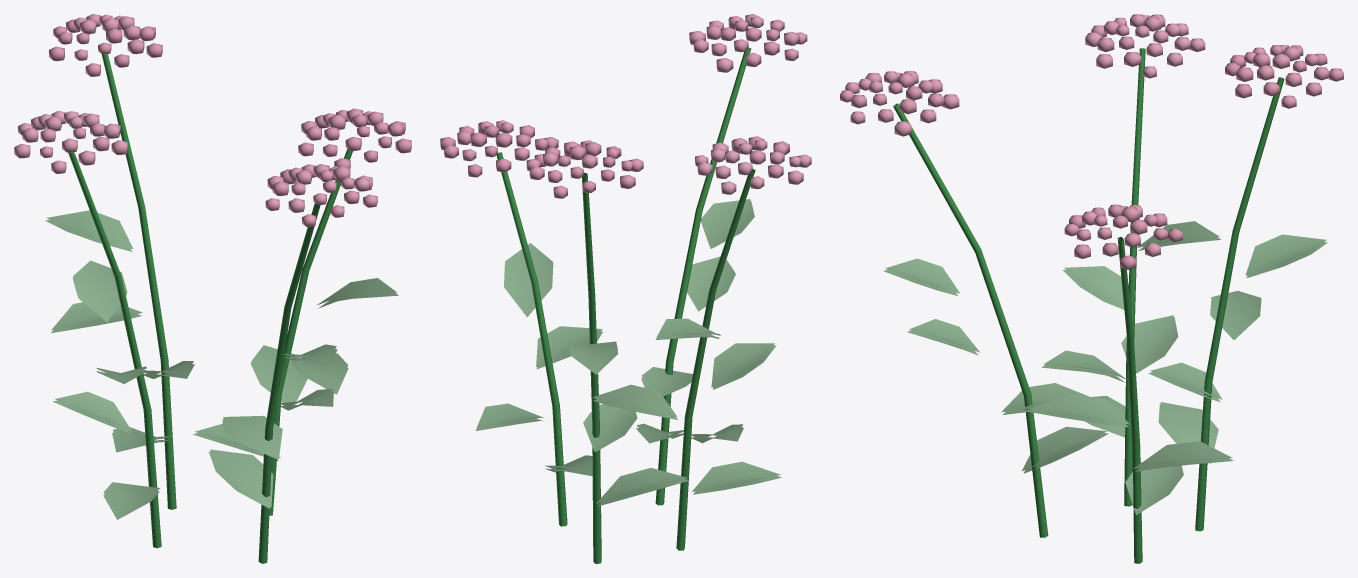
The model's file is ing_yarrow.gltf.
3 views of the same model, side by side, from view 1: azimuth 30°, elevation 25°; view 2: azimuth 150°, elevation 25°; view 3: azimuth 270°, elevation 25° (orthographic). The views are drawn at different scales.
Parts seen in each view (by area): view 1: ing_yarrow; view 2: ing_yarrow; view 3: ing_yarrow.
Part boxes in pixels (box(x1,y1,x2,y2)): ing_yarrow: box(14, 14, 411, 563); ing_yarrow: box(440, 14, 811, 563); ing_yarrow: box(840, 14, 1343, 563).
Size of what is drawn, in the model's own units: 0.3774 by 0.4409 by 0.4317.
